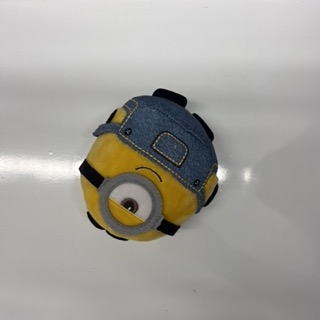minion: (78, 88, 219, 243)
